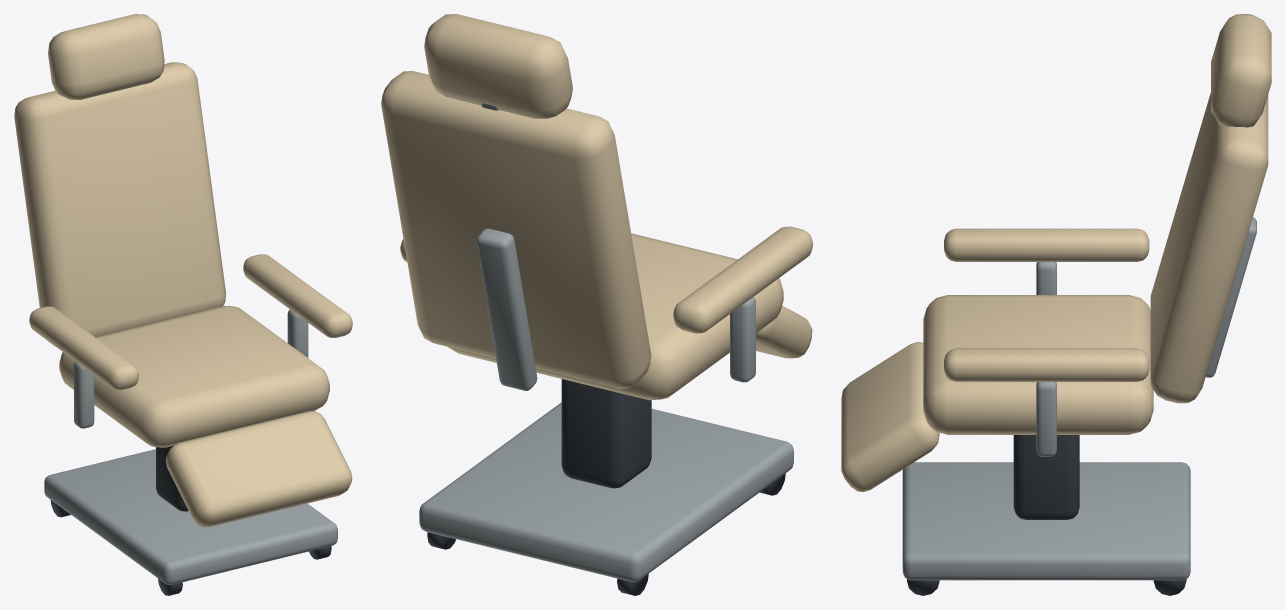
The model's file is TreatmentRecliner_starter.glb.
3 renders of one model, left to right at view 1: azimuth 30°, elevation 25°; view 2: azimuth 150°, elevation 25°; view 3: azimuth 270°, elevation 25°, orthographic. The views are drawn at different scales.
Parts seen in each view (by area): view 1: TreatmentRecliner_starter; view 2: TreatmentRecliner_starter; view 3: TreatmentRecliner_starter.
Part boxes in pixels (bbox=[...]): TreatmentRecliner_starter: bbox=[14, 14, 352, 595]; TreatmentRecliner_starter: bbox=[381, 14, 812, 595]; TreatmentRecliner_starter: bbox=[841, 14, 1271, 595].
Size of the model in its own units: 0.78 by 1.38 by 1.05.
